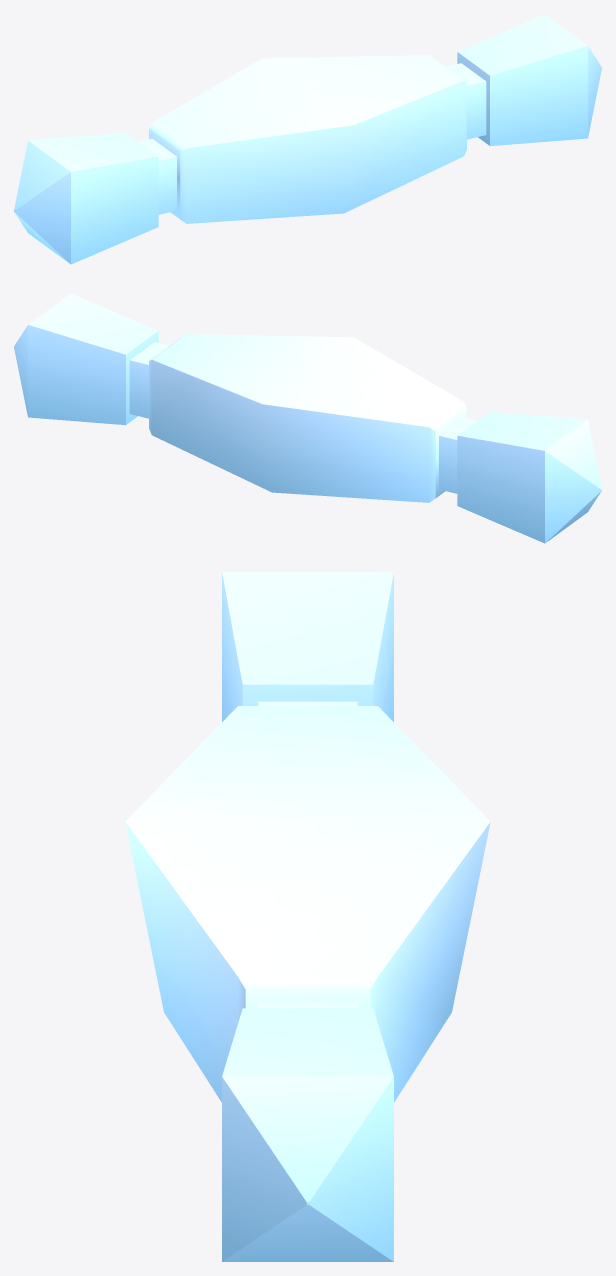
File: steel_guard_055.glb
3 views of the same model, one above another, from view 1: azimuth 30°, elevation 25°; view 2: azimuth 150°, elevation 25°; view 3: azimuth 270°, elevation 25° (orthographic). The views are drawn at different scales.
Visible parts, largest first — view 1: steel_guard_055; view 2: steel_guard_055; view 3: steel_guard_055.
Boxes of the visible parts, bbox=[...] form: steel_guard_055: bbox=[14, 14, 601, 264]; steel_guard_055: bbox=[14, 293, 601, 543]; steel_guard_055: bbox=[125, 572, 490, 1261].
Size of the model in its own units: 9.16 by 1.42 by 2.47.
1 material, 1 textured.
